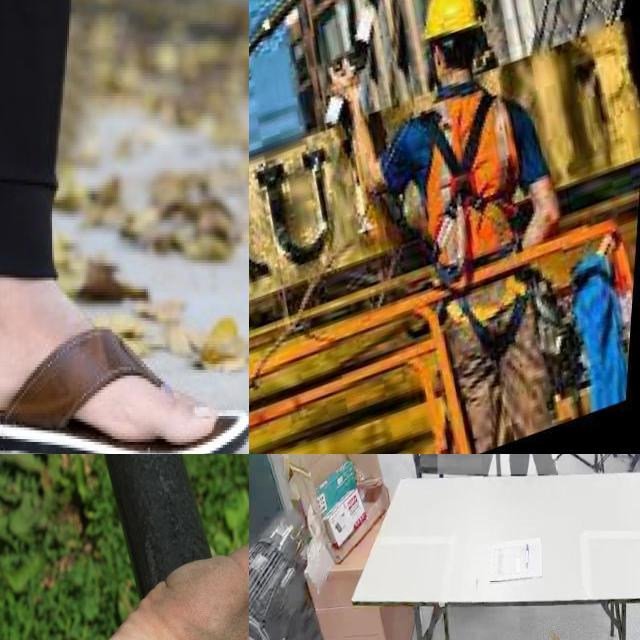Barefoots: (0, 533, 249, 640)
Harness: (422, 94, 497, 244)
Sandals: (0, 261, 249, 454)
